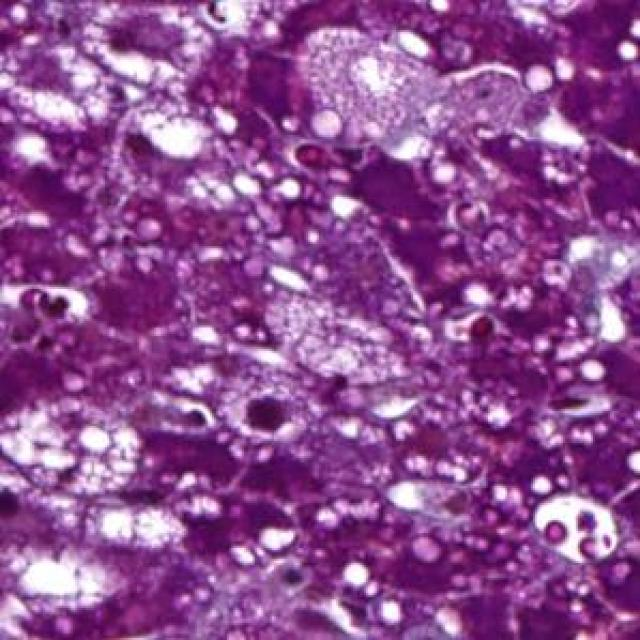ballooning: (4, 392, 148, 501)
